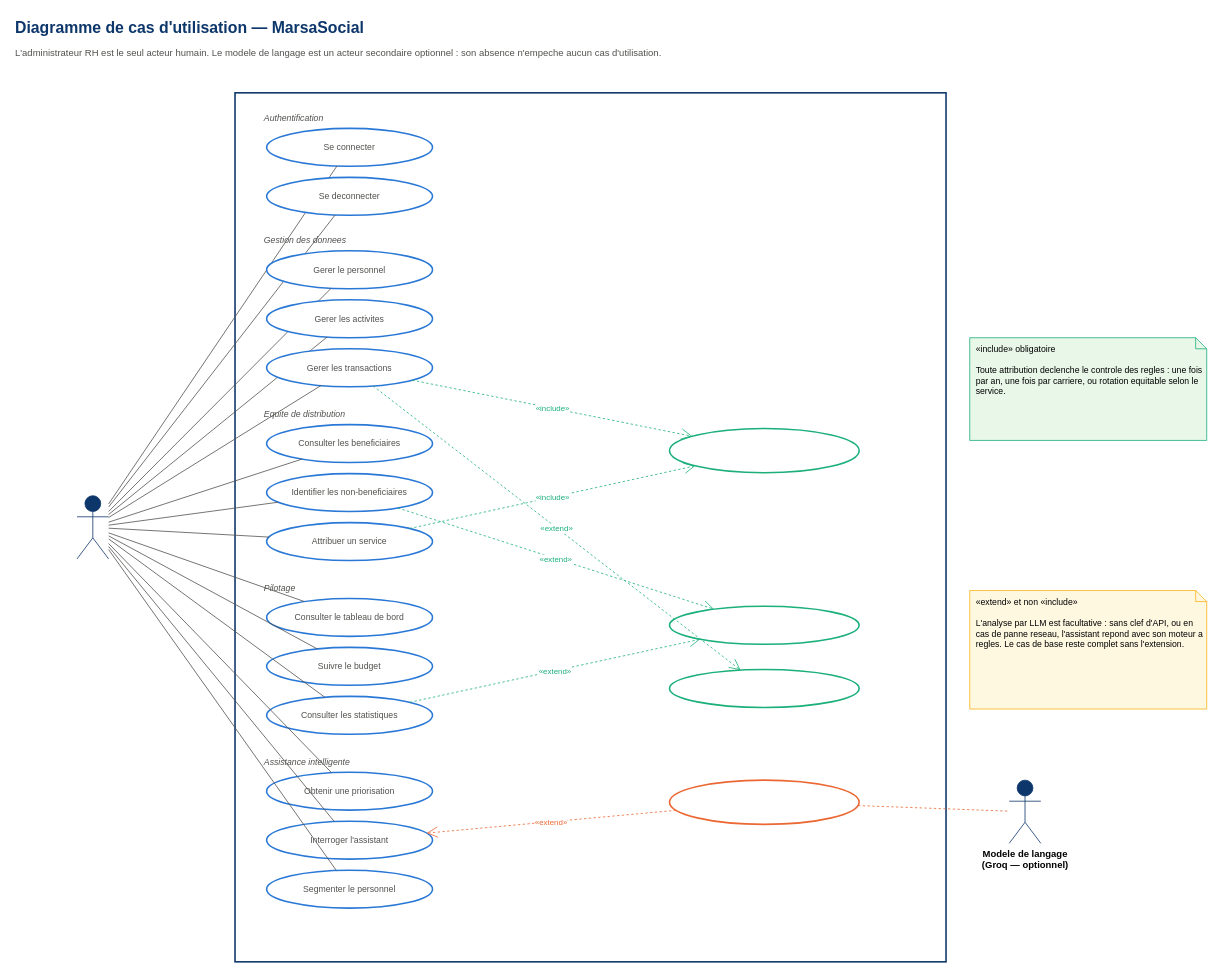
Image size: 1221x976. Some labels were removed from this diagram. The box of each missing label's shape, as (x1, y1, x2, y2) in pixels:
Administrateur RH: (76, 495, 109, 559)
Analyser la question par LLM: (668, 779, 860, 825)
Editer une attestation: (668, 668, 860, 708)
Exporter (Excel / PDF): (668, 605, 860, 645)
MarsaSocial: (234, 92, 946, 962)
Verifier les regles d'attribution: (668, 427, 860, 473)
